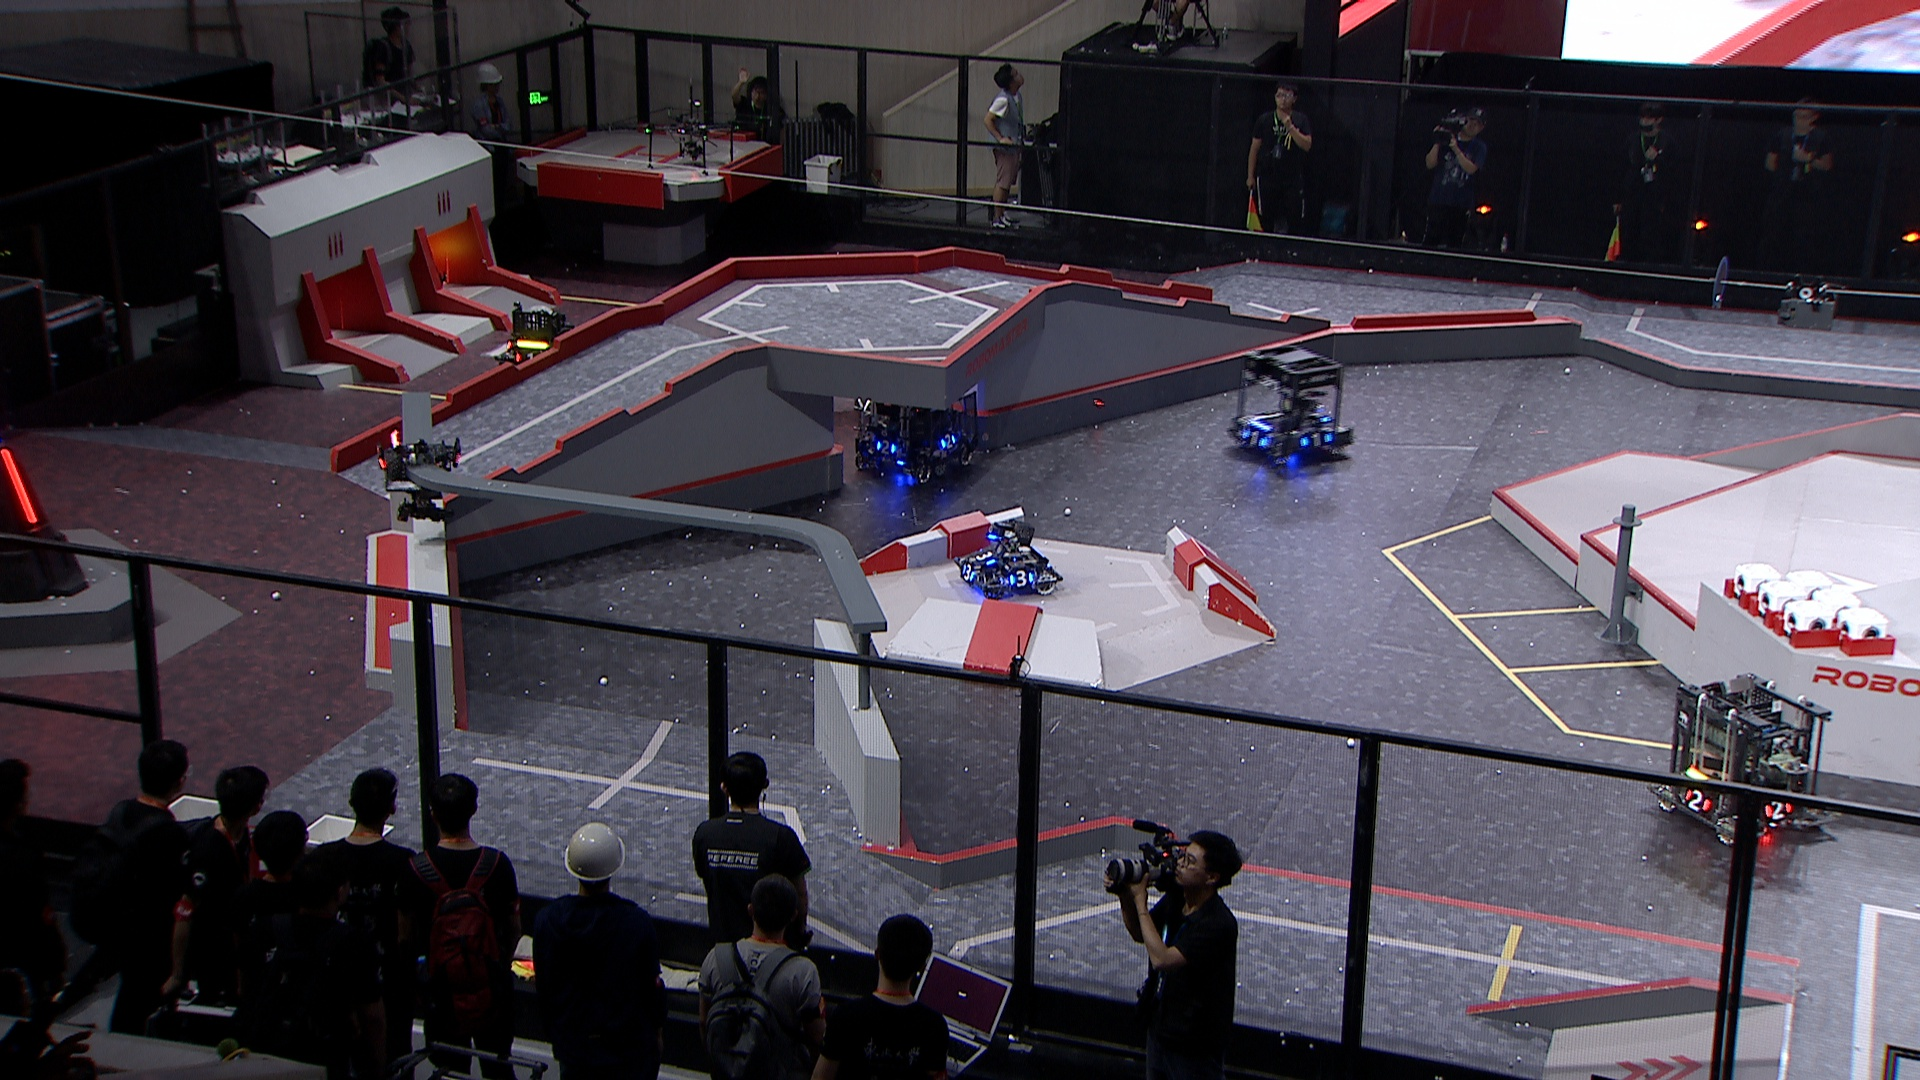armor: (1684, 785, 1712, 814), (1242, 425, 1269, 450), (1764, 800, 1789, 820), (1302, 433, 1332, 447), (972, 549, 1000, 564), (873, 436, 895, 455), (1007, 571, 1035, 585), (940, 433, 959, 450), (957, 564, 975, 582), (514, 351, 533, 365)
car: (1648, 669, 1836, 844), (847, 349, 978, 489), (1225, 342, 1354, 463), (953, 517, 1063, 597), (493, 297, 583, 386)
watcher: (373, 425, 463, 524)
